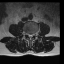CCS_normal: (29, 31, 31, 41)
LFS_normal: (33, 31, 35, 37)
LLS_normal: (31, 31, 33, 38)
RFS_normal: (25, 30, 27, 36)
RLS_normal: (27, 31, 29, 38)
